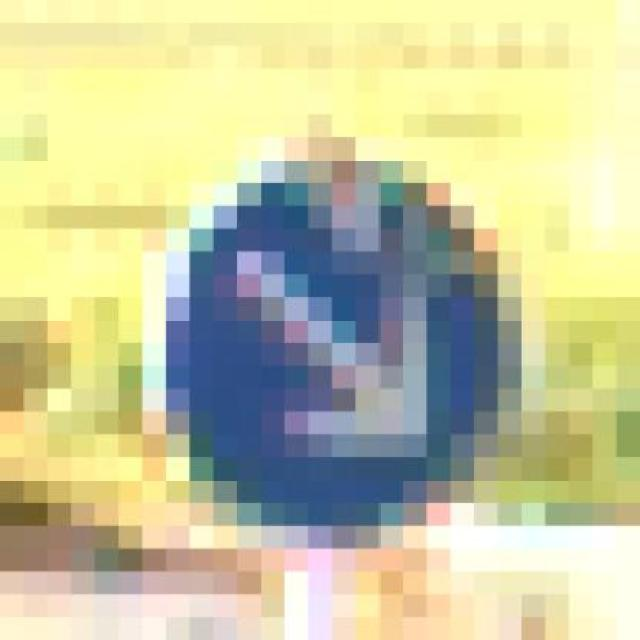Keep-Right: (118, 91, 545, 548)
